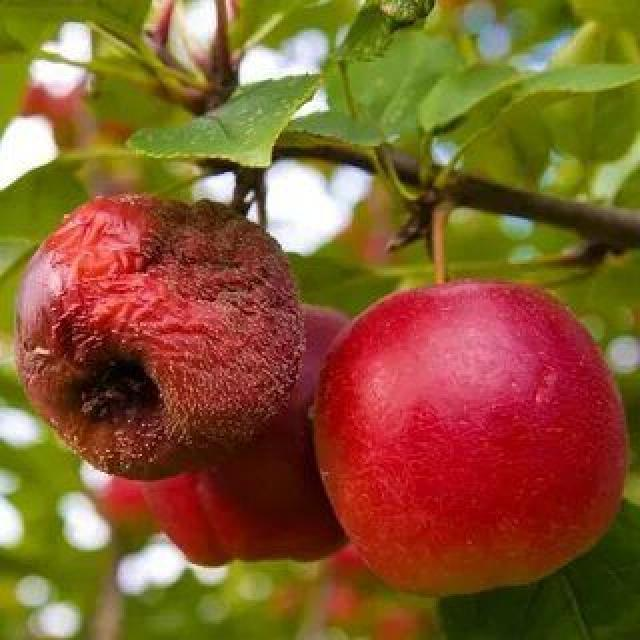Fresh Apple: (315, 275, 615, 600)
Rotten: (13, 180, 297, 462)
